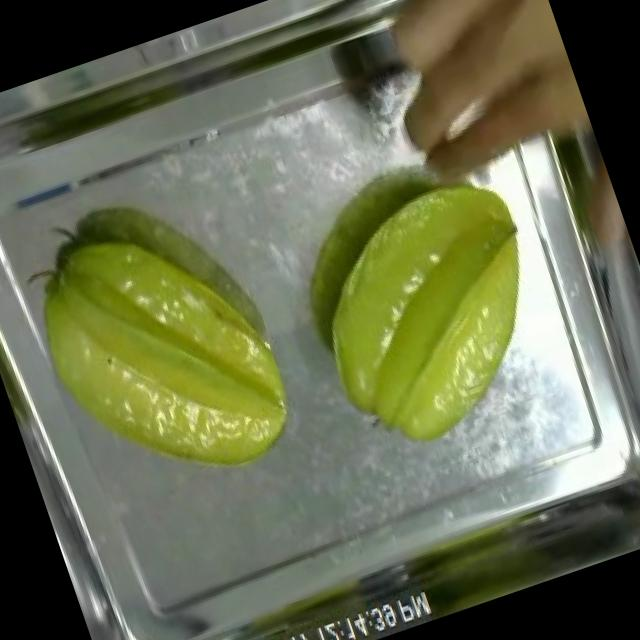fruit: (0, 172, 326, 529), (274, 154, 580, 468), (348, 0, 599, 206)
